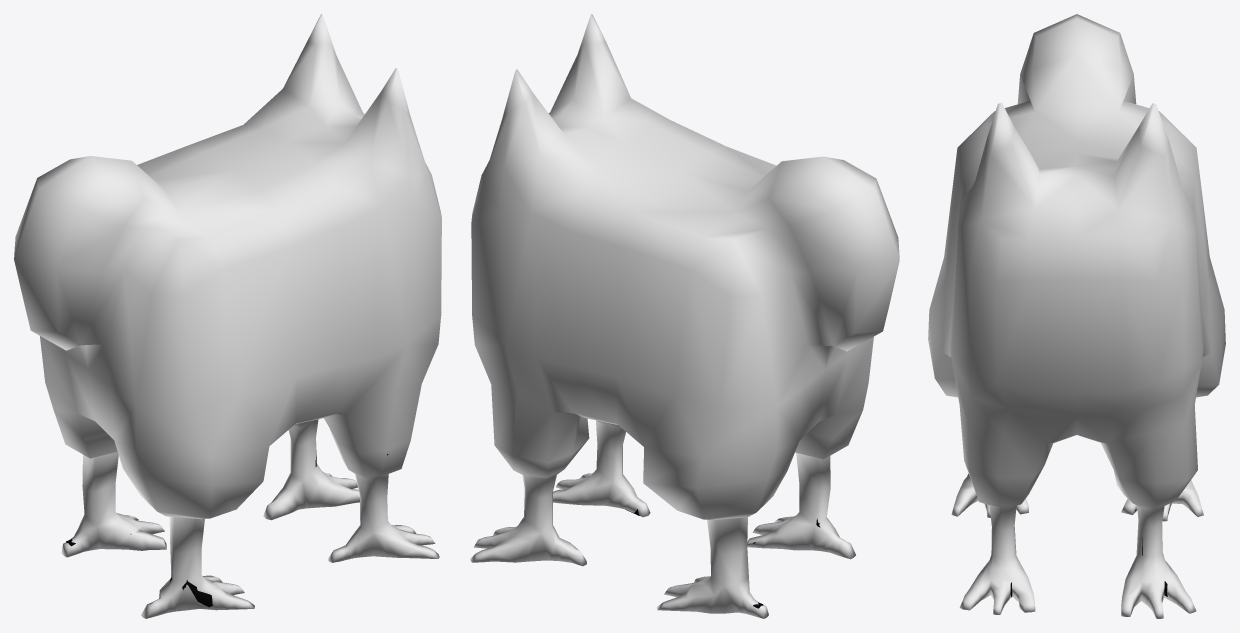
The model's file is af23_thewatcher_devogamer.fbx.
The picture shows the model from 3 angles, left to right: view 1: azimuth 30°, elevation 25°; view 2: azimuth 150°, elevation 25°; view 3: azimuth 270°, elevation 25°; orthographic projection. The views are drawn at different scales.
Parts seen in each view (by area): view 1: Cube.001; view 2: Cube.001; view 3: Cube.001.
Part boxes in pixels (box(x1,y1,x2,y2)): Cube.001: box(14, 14, 441, 618); Cube.001: box(470, 14, 899, 618); Cube.001: box(928, 14, 1225, 618).
Size of the model in its own units: 431 by 503 by 273.
